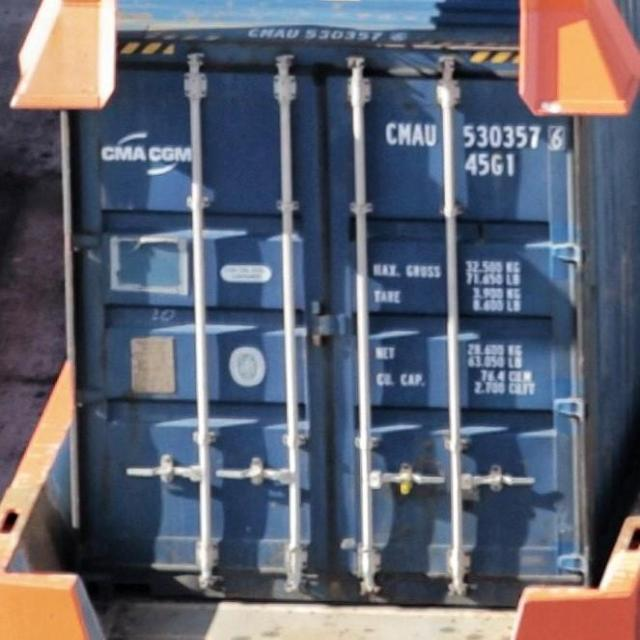ISO: (466, 152, 516, 178)
container_number: (386, 122, 563, 150)
